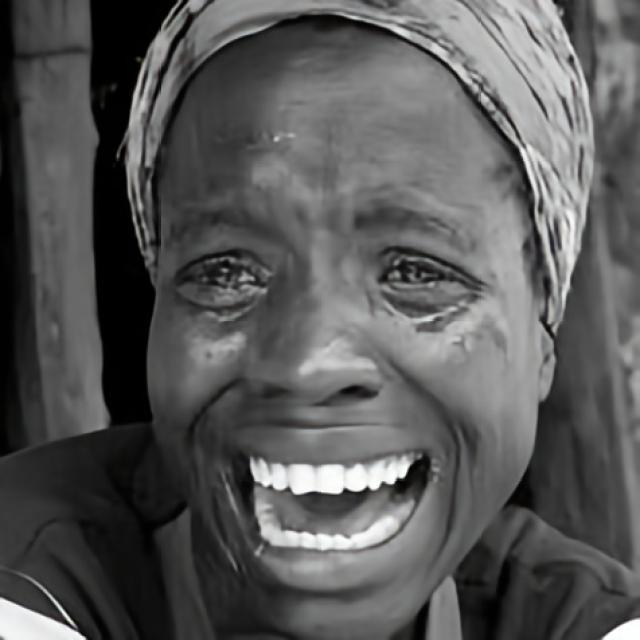fear: (142, 19, 542, 638)
